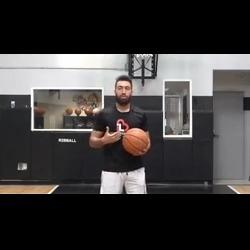BasketBall: (120, 126, 151, 157)
